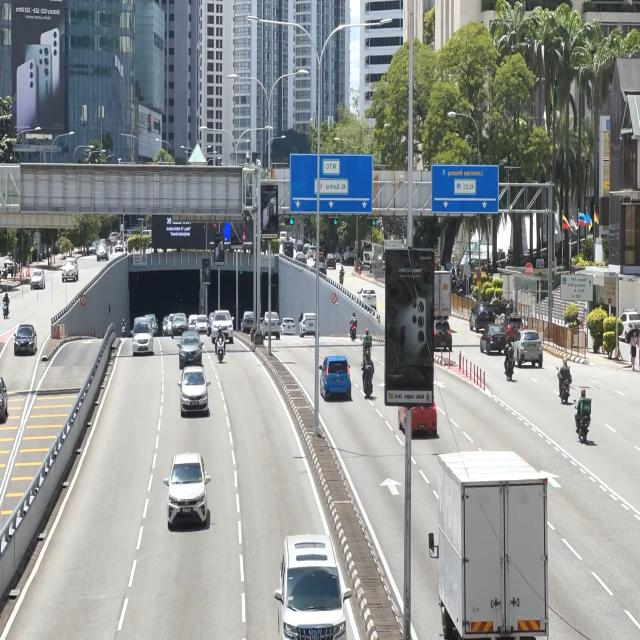Vehicle: (427, 447, 546, 640), (275, 530, 347, 640), (164, 449, 207, 532), (178, 364, 208, 419), (318, 355, 351, 400), (513, 330, 544, 373), (10, 320, 40, 361), (175, 329, 202, 366), (479, 323, 508, 357), (130, 318, 154, 357), (211, 307, 235, 344), (297, 309, 319, 343)
